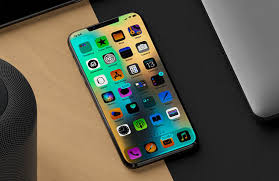iphone: (66, 7, 200, 171)
iphone10: (66, 6, 200, 170)
